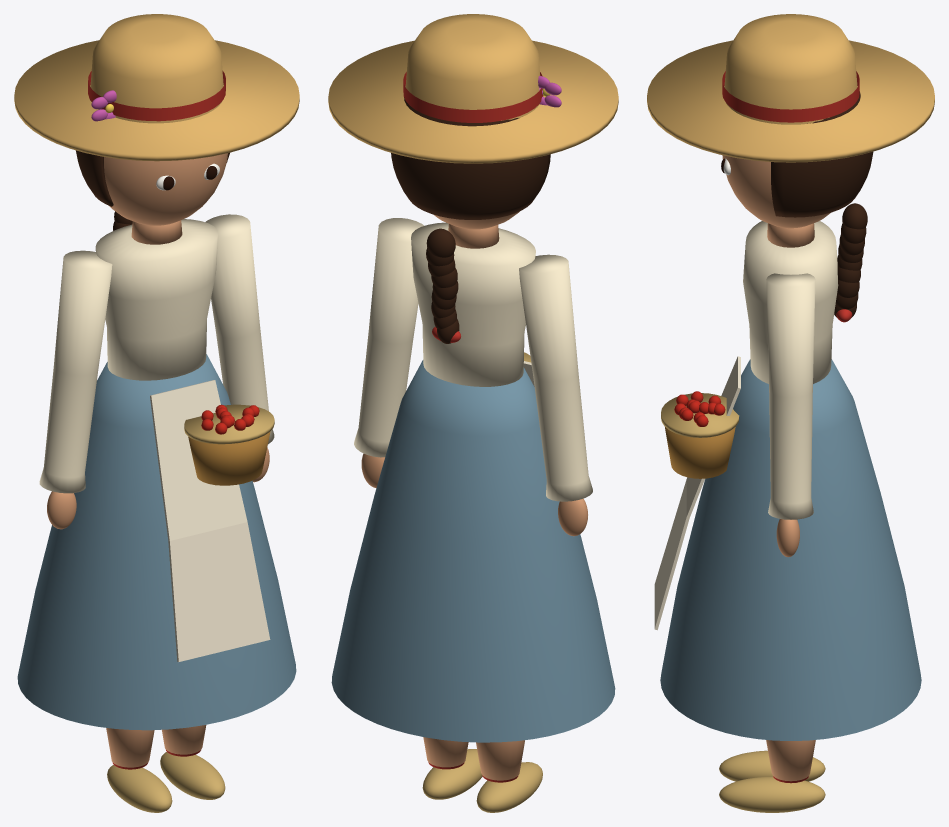
The model's file is orquidera_bloque.glb.
The picture shows the model from 3 angles, left to right: view 1: azimuth 30°, elevation 25°; view 2: azimuth 150°, elevation 25°; view 3: azimuth 270°, elevation 25°; orthographic projection.
Visible parts, largest first — view 1: falda, delantal, ala, blusa, manga_i, copa, manga_d, cabeza, canasto, alpargata_d, alpargata_i, canasto_borde (+6 smaller); view 2: falda, ala, blusa, manga_i, copa, manga_d, cabello, cinta_sombrero, alpargata_i, alpargata_d, pierna_i, pierna_d (+5 smaller); view 3: falda, ala, manga_d, copa, blusa, cabello, alpargata_d, delantal, cabeza, canasto, cinta_sombrero, canasto_borde (+5 smaller).
Part boxes in pixels (x1,y1,x2,y2): falda: (17,354,296,730); delantal: (150,380,270,661); ala: (14,40,299,161); blusa: (95,219,218,380); manga_i: (39,250,112,493); copa: (90,14,223,123); manga_d: (205,214,274,444); cabeza: (104,153,227,225); canasto: (188,431,270,485); alpargata_d: (160,752,225,799); alpargata_i: (107,765,172,812); canasto_borde: (184,404,274,444); falda: (331,360,615,742); ala: (328,40,618,163); blusa: (411,222,535,386); manga_i: (519,254,592,501); copa: (405,14,540,120); manga_d: (354,218,424,457); cabello: (391,97,550,219); cinta_sombrero: (403,72,543,122); alpargata_i: (476,762,542,812); alpargata_d: (422,749,482,799); pierna_i: (476,740,524,780); pierna_d: (423,737,468,767); falda: (660,359,921,740); ala: (647,40,934,162); manga_d: (766,273,815,519); copa: (724,14,857,124); blusa: (743,221,838,383); cabello: (771,91,873,217); alpargata_d: (719,776,825,812); delantal: (654,356,740,630); cabeza: (722,155,830,228); canasto: (665,427,735,478); cinta_sombrero: (722,71,859,122); canasto_borde: (661,393,739,437).
Bounding box in the file's own units: 0.54 × 1.58 × 0.54.
